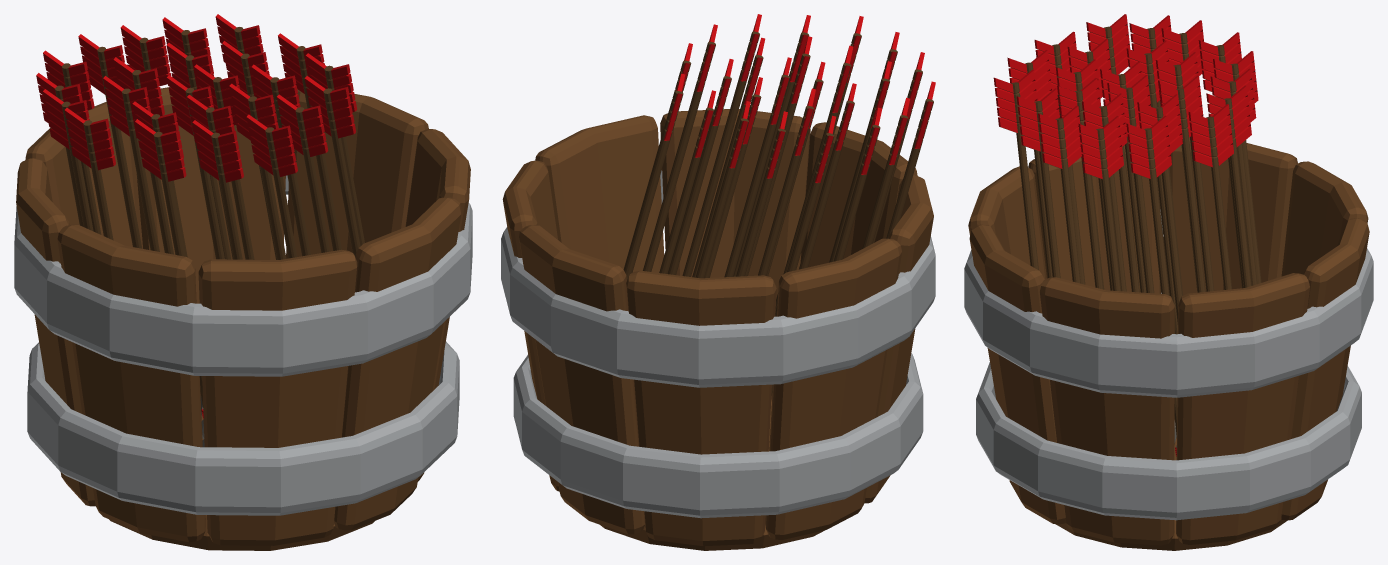
The model's file is bs-arrow-bucket.fbx.
3 renders of one model, left to right at view 1: azimuth 30°, elevation 25°; view 2: azimuth 150°, elevation 25°; view 3: azimuth 270°, elevation 25°, orthographic. The views are drawn at different scales.
Parts seen in each view (by area): view 1: Circle.112; view 2: Circle.112; view 3: Circle.112.
Part boxes in pixels (x1=…): Circle.112: x1=14, y1=14, x2=472, y2=550; Circle.112: x1=501, y1=14, x2=935, y2=550; Circle.112: x1=964, y1=14, x2=1373, y2=550.
Bounding box in the file's own units: 65.12 × 69.39 × 64.69.
